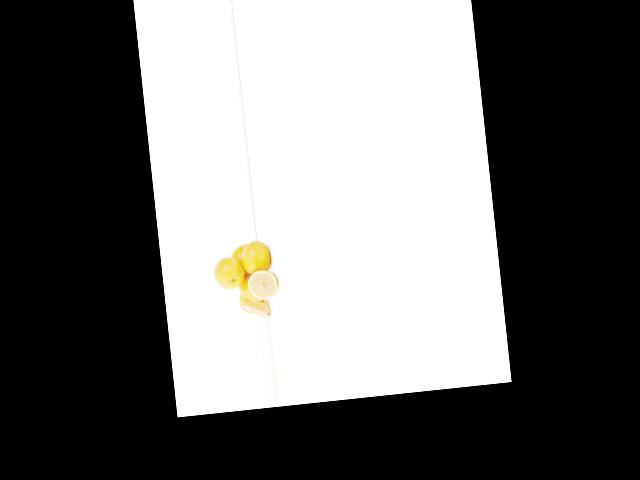lemon: (235, 239, 274, 278)
